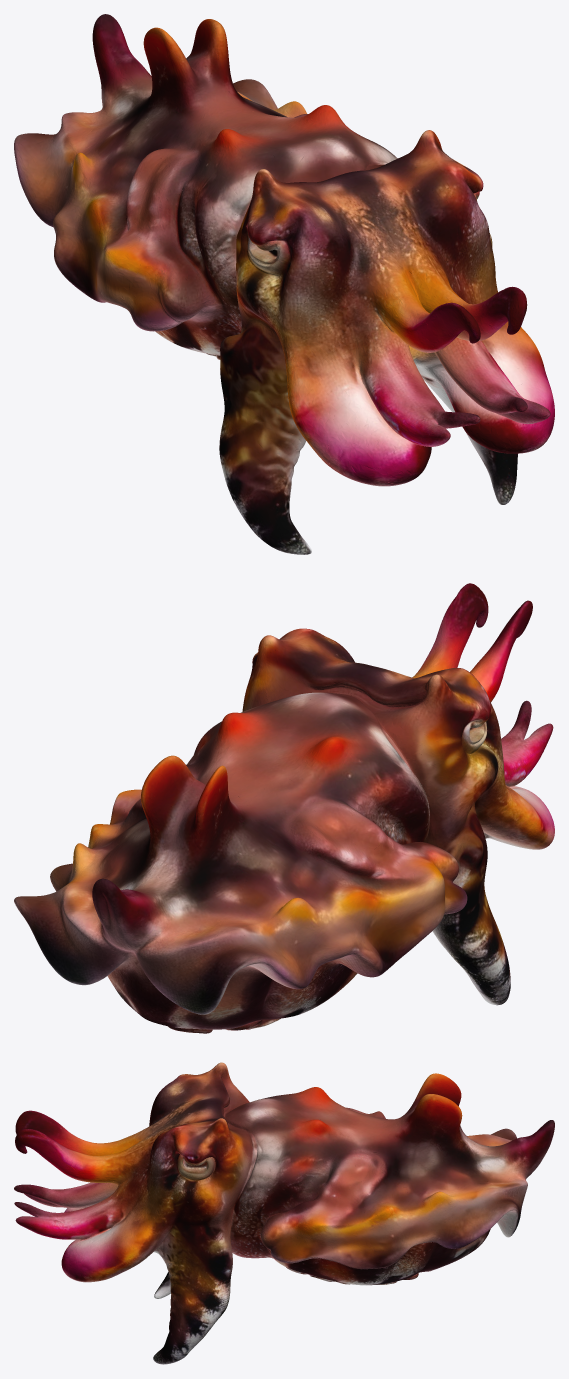
File: cuttle.glb
3 renders of one model, top to bottom at view 1: azimuth 30°, elevation 25°; view 2: azimuth 150°, elevation 25°; view 3: azimuth 270°, elevation 25°, orthographic. The views are drawn at different scales.
Size of the model in its own units: 0.917 by 0.9475 by 1.9.
Materials: 1 (1 with a texture image).
